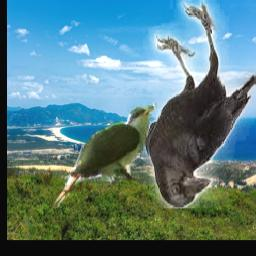Crow: (144, 0, 256, 208)
Cuckoo: (49, 103, 157, 208)
